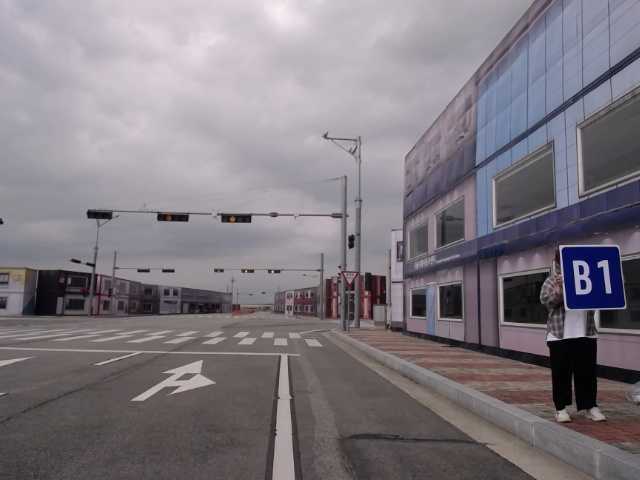delivery_b1: (559, 245, 626, 310)
orange_4: (157, 212, 189, 222), (221, 213, 252, 223), (268, 269, 281, 274), (241, 269, 255, 273)
